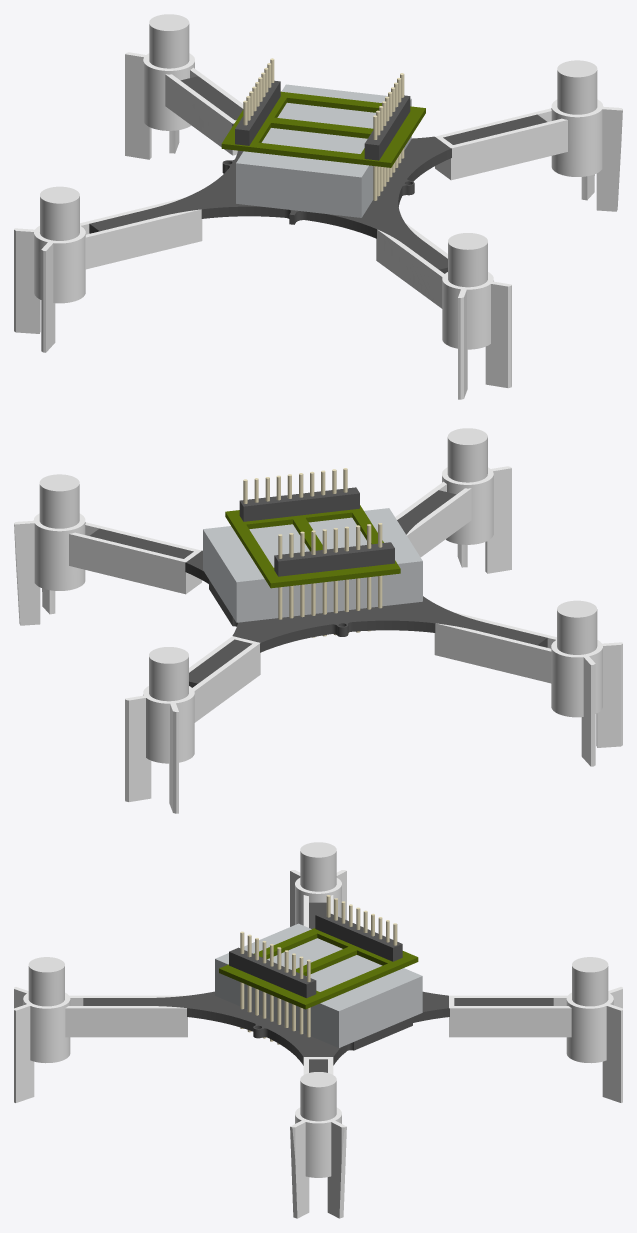
The model's file is crazyflie2.dae.
3 renders of one model, top to bottom at view 1: azimuth 30°, elevation 25°; view 2: azimuth 150°, elevation 25°; view 3: azimuth 270°, elevation 25°, orthographic. The views are drawn at different scales.
Parts seen in each view (by area): view 1: Part1, pcb, MotorMountsSlanted_006, MotorMountsSlanted_004, MotorMountsSlanted_003, Part3, MotorMountsSlanted_005, MotorMountsSlanted_001, MotorMountsSlanted, MotorMountsSlanted_002, Motors2_003, Motors2_001 (+4 smaller); view 2: Part1, MotorMountsSlanted_006, pcb, MotorMountsSlanted_004, MotorMountsSlanted_005, MotorMountsSlanted_003, MotorMountsSlanted_001, Part3, MotorMountsSlanted, Part5_001, Part5, MotorMountsSlanted_002 (+4 smaller); view 3: Part1, pcb, MotorMountsSlanted_006, MotorMountsSlanted, MotorMountsSlanted_002, MotorMountsSlanted_003, MotorMountsSlanted_005, Part3, Part5_001, Part5, Motors2, Motors2_003 (+3 smaller).
Part boxes in pixels (left/top/right/bottom): Part1: left=236, top=84, right=411, bottom=217; pcb: left=89, top=76, right=546, bottom=273; MotorMountsSlanted_006: left=435, top=99, right=622, bottom=211; MotorMountsSlanted_004: left=14, top=226, right=85, bottom=352; MotorMountsSlanted_003: left=442, top=272, right=511, bottom=399; Part3: left=221, top=91, right=425, bottom=167; MotorMountsSlanted_005: left=125, top=52, right=194, bottom=159; MotorMountsSlanted_001: left=80, top=198, right=202, bottom=269; MotorMountsSlanted: left=165, top=67, right=243, bottom=155; MotorMountsSlanted_002: left=376, top=223, right=447, bottom=308; Motors2_003: left=149, top=14, right=189, bottom=68; Motors2_001: left=557, top=60, right=597, bottom=114; Part1: left=203, top=508, right=422, bottom=622; MotorMountsSlanted_006: left=14, top=513, right=201, bottom=625; pcb: left=90, top=490, right=547, bottom=687; MotorMountsSlanted_004: left=551, top=640, right=622, bottom=766; MotorMountsSlanted_005: left=125, top=686, right=194, bottom=813; MotorMountsSlanted_003: left=442, top=466, right=511, bottom=573; MotorMountsSlanted_001: left=434, top=612, right=556, bottom=683; Part3: left=225, top=505, right=400, bottom=588; MotorMountsSlanted: left=189, top=636, right=260, bottom=722; Part5_001: left=274, top=542, right=394, bottom=576; Part5: left=239, top=487, right=359, bottom=521; MotorMountsSlanted_002: left=395, top=481, right=471, bottom=557; Part1: left=215, top=923, right=422, bottom=1047; pcb: left=83, top=902, right=553, bottom=1072; MotorMountsSlanted_006: left=290, top=1057, right=346, bottom=1218; MotorMountsSlanted: left=449, top=995, right=571, bottom=1037; MotorMountsSlanted_002: left=65, top=995, right=187, bottom=1037; MotorMountsSlanted_003: left=14, top=987, right=70, bottom=1102; MotorMountsSlanted_005: left=566, top=987, right=622, bottom=1102; Part3: left=219, top=928, right=418, bottom=1009; Part5_001: left=315, top=911, right=402, bottom=961; Part5: left=229, top=947, right=316, bottom=998; Motors2: left=300, top=842, right=336, bottom=891; Motors2_003: left=572, top=957, right=608, bottom=1006.
Size of the model in its own units: 0.1035 by 0.1035 by 0.031.
